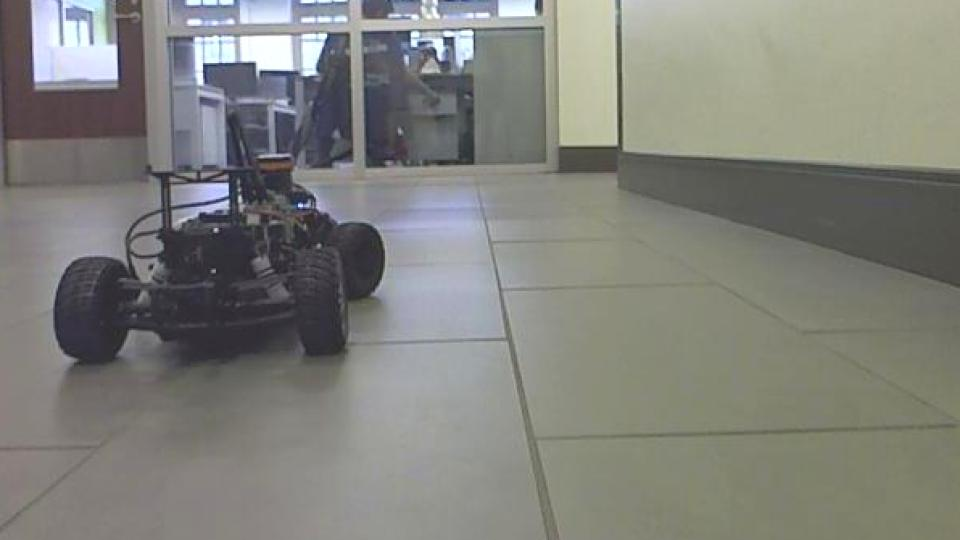car: (48, 107, 388, 367)
